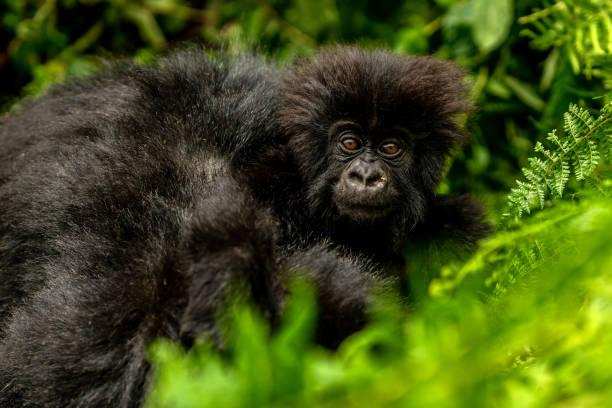goriile_montagne: (167, 41, 507, 261)
